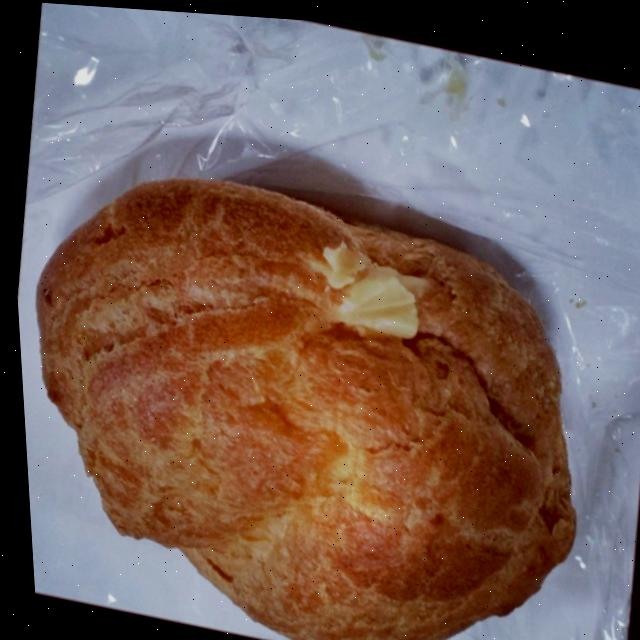炸货点心: (6, 120, 637, 640)
蛋糕甜品: (6, 120, 637, 640)
